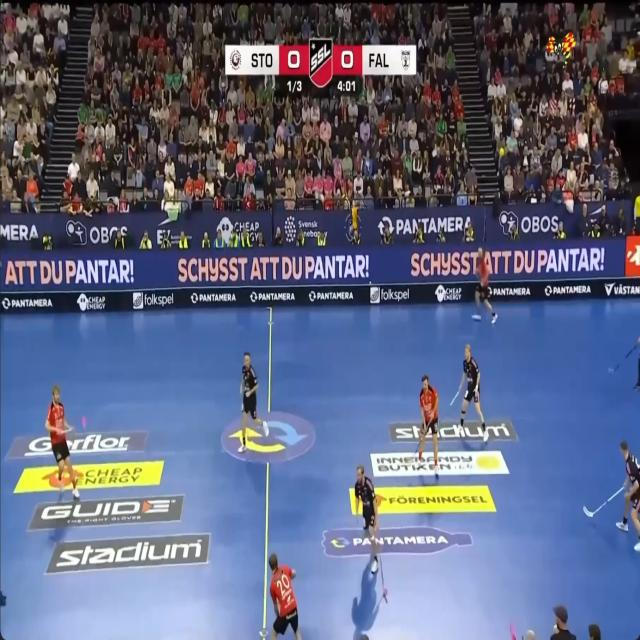player: (45, 385, 78, 498), (239, 352, 268, 452), (459, 344, 488, 442), (268, 553, 301, 639), (616, 442, 640, 551), (354, 464, 378, 572), (418, 374, 439, 477), (475, 247, 497, 323), (472, 312, 481, 319)
stick: (583, 485, 624, 517), (608, 344, 637, 372), (414, 420, 430, 455), (379, 555, 387, 602), (414, 431, 422, 456), (450, 390, 459, 406), (509, 623, 517, 639), (381, 588, 387, 602), (259, 629, 267, 639), (81, 415, 86, 428), (64, 426, 74, 432), (376, 599, 381, 607)
